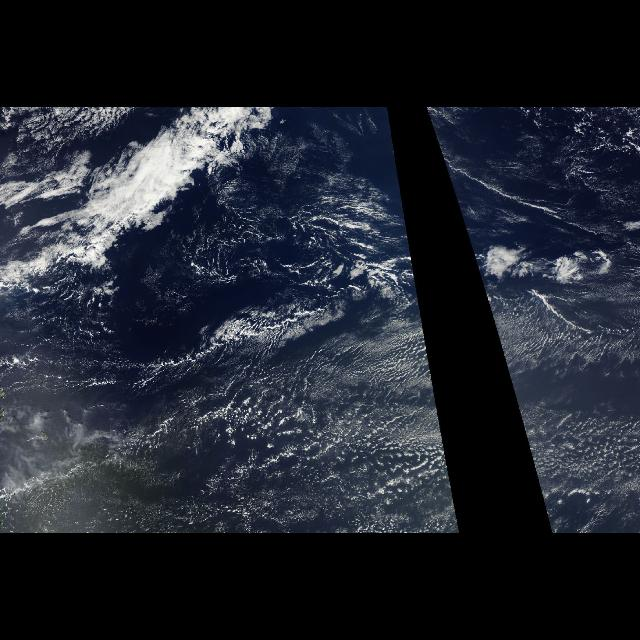Fish: (21, 112, 377, 382)
Gravel: (27, 323, 460, 529), (494, 323, 640, 529)
Sugar: (264, 324, 460, 528), (494, 324, 628, 528)
